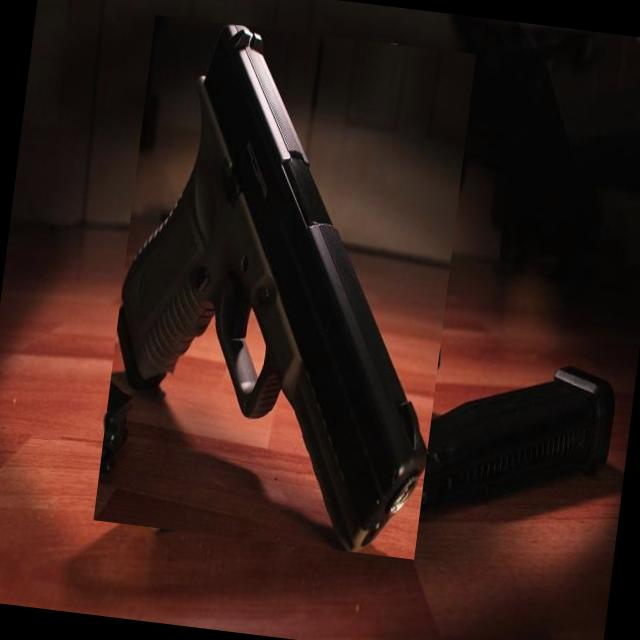Gun: (117, 24, 427, 551)
